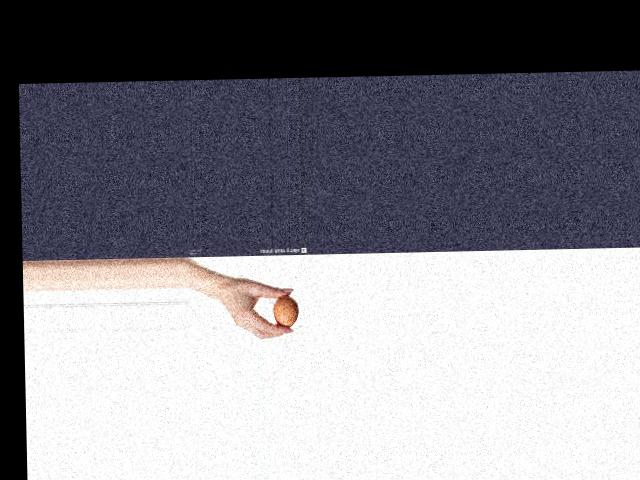egg: (271, 294, 298, 327)
